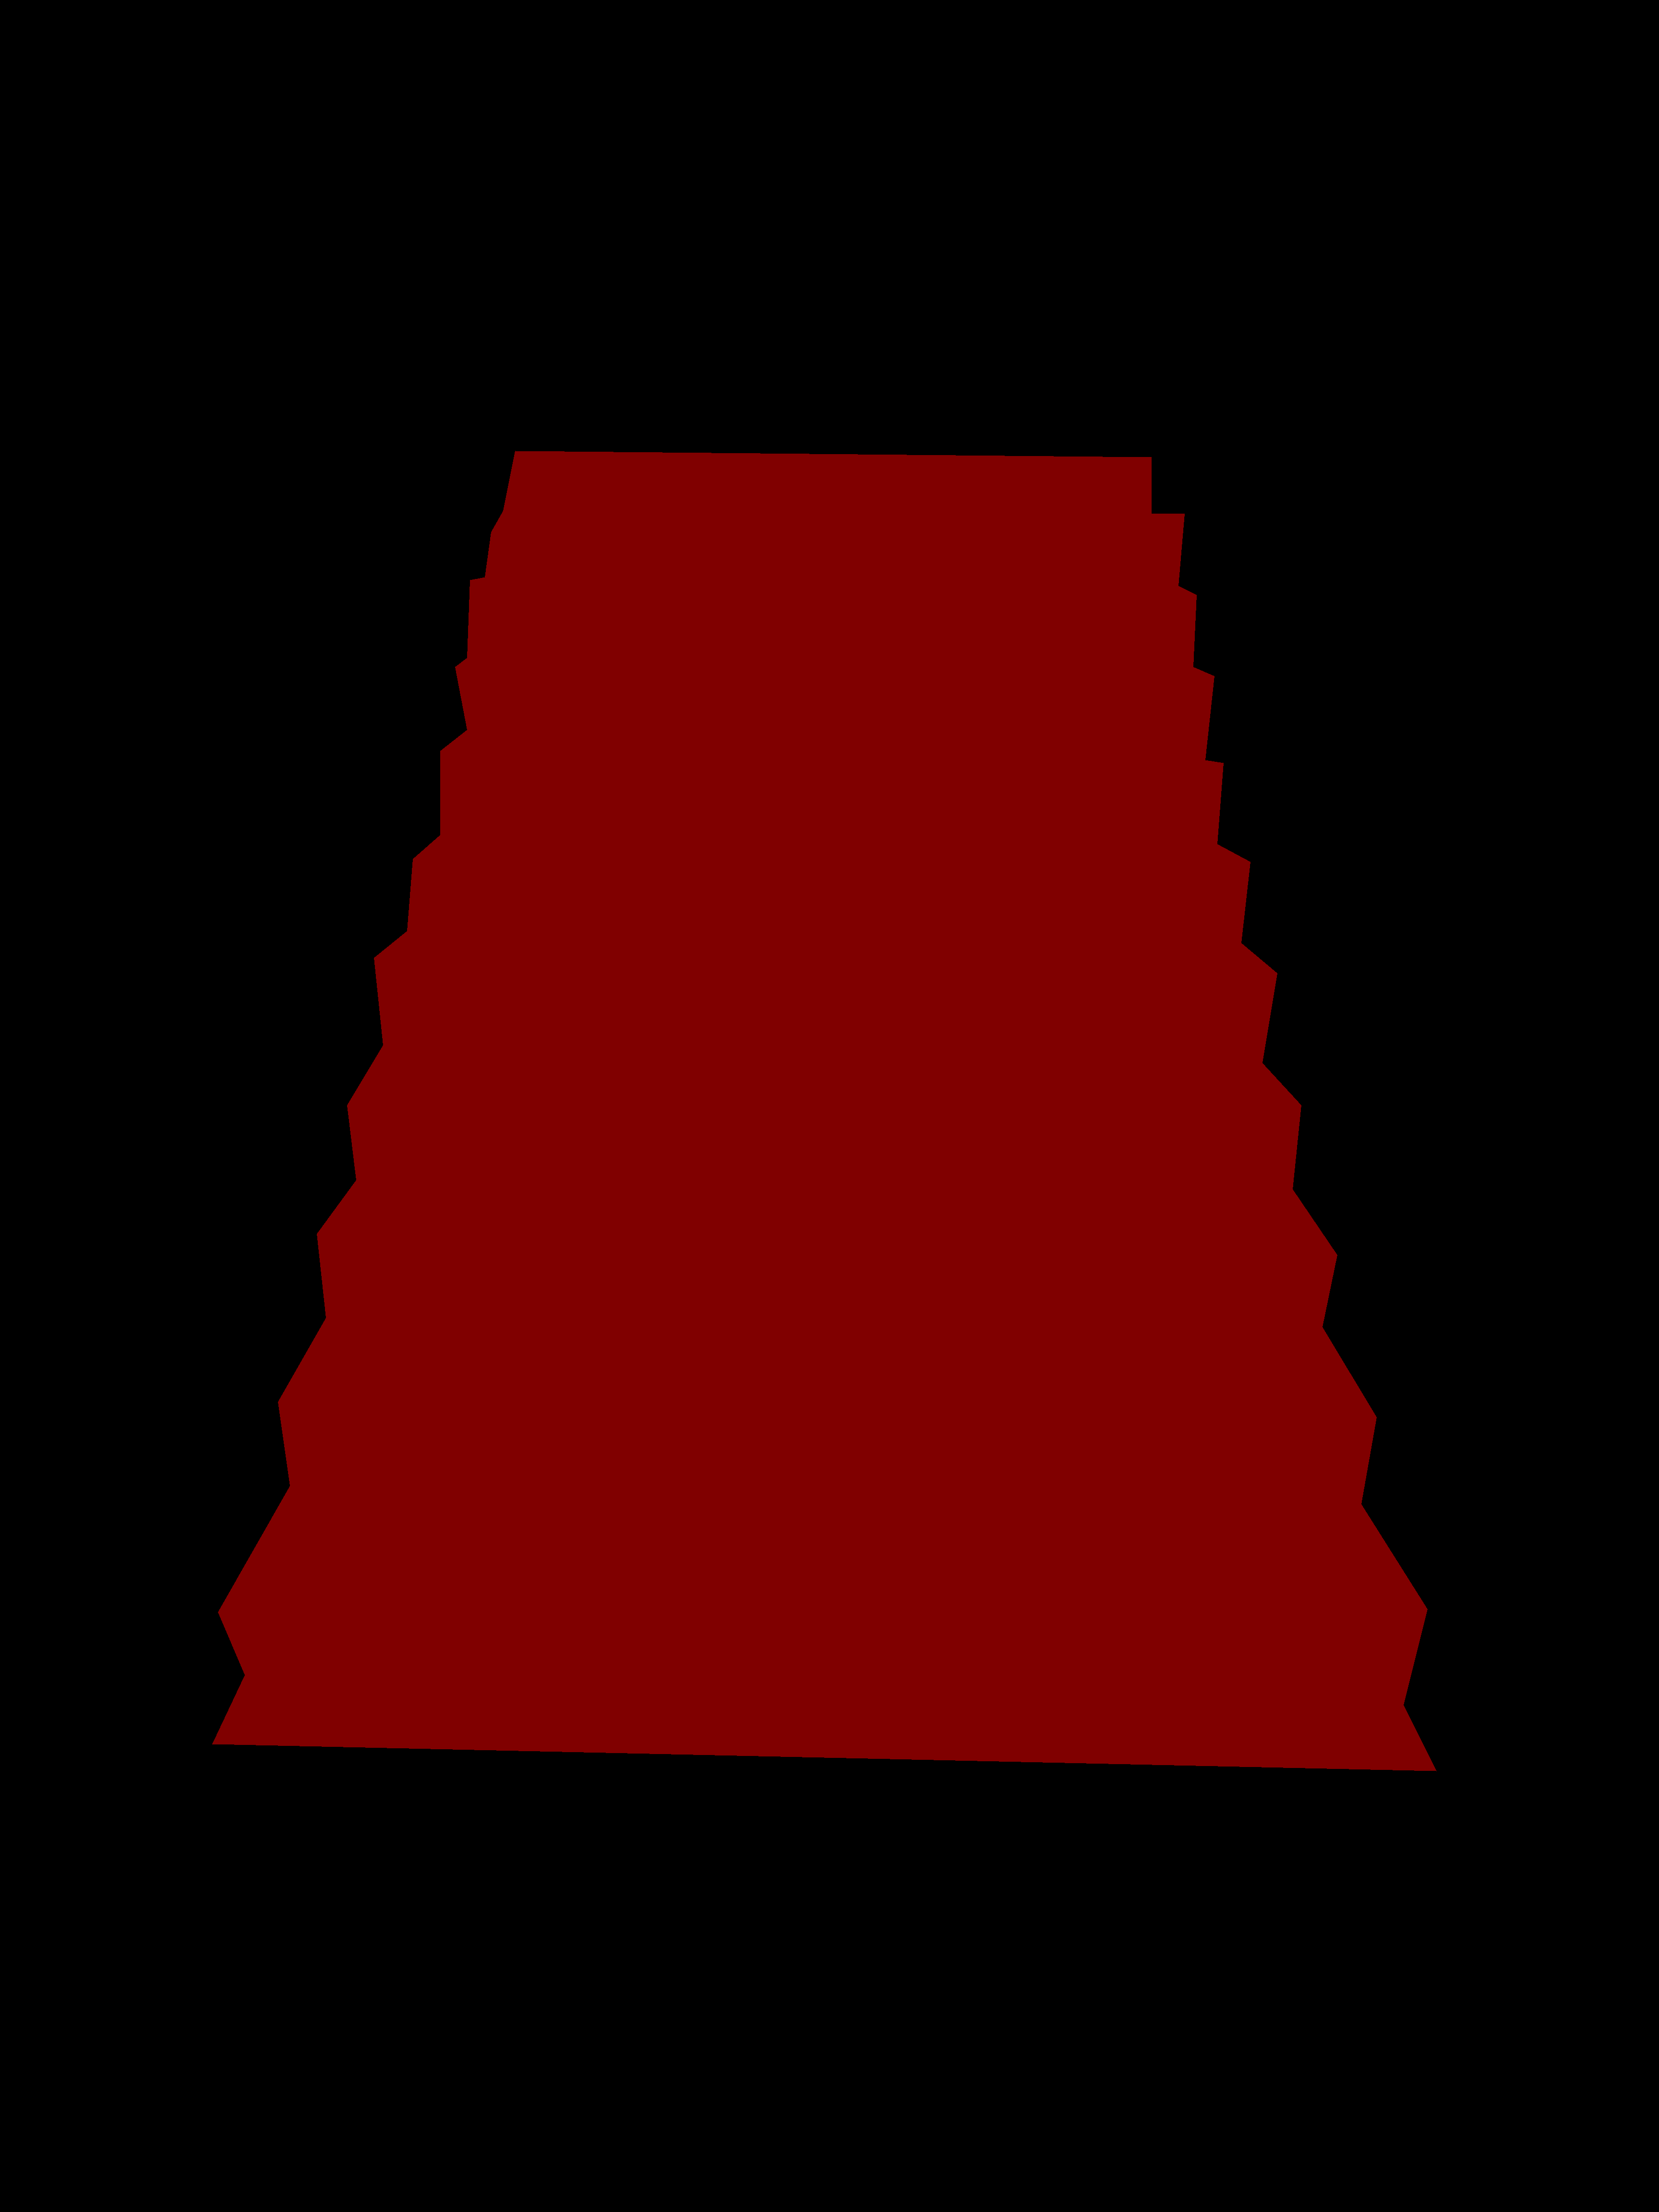stair: (213, 451, 1436, 1771)
